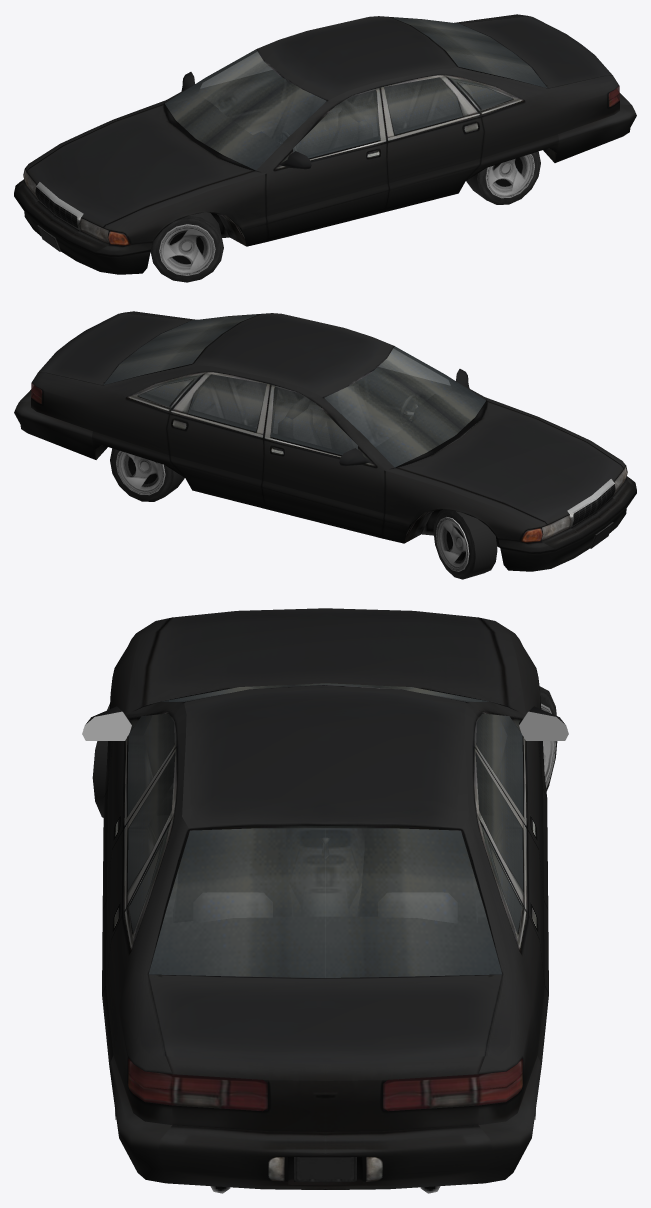
Rendered from chapman_91_tuned_-_retro_styled_model.glb.
The picture shows the model from 3 angles, top to bottom: view 1: azimuth 30°, elevation 25°; view 2: azimuth 150°, elevation 25°; view 3: azimuth 270°, elevation 25°; orthographic projection. The views are drawn at different scales.
Parts seen in each view (by area): view 1: body_Body_Chapman91_0, Glass_GT1_Glass_Clean_0, Interior_gt1_interior_dif_0, Hood_Body_Chapman91_0, Trunk_Body_Chapman91_0, Bumper_Front_Body_Chapman91_0, Wheel_FL_Rim_PRZero_0, Bumper_Rear_Body_Chapman91_0, Wheel_FL_wp_tire_01_0, Wheel_RL_Rim_PRZero_0, Wheel_RL_wp_tire_01_0, Bottom_gt1_Bottom_0 (+1 smaller); view 2: body_Body_Chapman91_0, Glass_GT1_Glass_Clean_0, Interior_gt1_interior_dif_0, Hood_Body_Chapman91_0, Trunk_Body_Chapman91_0, Bumper_Front_Body_Chapman91_0, Bumper_Rear_Body_Chapman91_0, Wheel_FR_wp_tire_01_0, Wheel_RR_Rim_PRZero_0, Wheel_FR_Rim_PRZero_0, Wheel_RR_wp_tire_01_0, Bottom_gt1_Bottom_0 (+1 smaller); view 3: body_Body_Chapman91_0, Glass_GT1_Glass_Clean_0, Interior_gt1_interior_dif_0, Trunk_Body_Chapman91_0, Hood_Body_Chapman91_0, Bumper_Rear_Body_Chapman91_0, Stoplights_gt1_headlights_3_0, Sidemirrors_gt1_Bottom_0, Reverse_glass_gt1_headlights_3_0, Bumper_Rear_gt1_Bottom_0, Wheel_FL_wp_tire_01_0.
Part boxes in pixels (x1,y1,x2,y2): body_Body_Chapman91_0: [23, 14, 619, 246]; Glass_GT1_Glass_Clean_0: [165, 17, 547, 170]; Interior_gt1_interior_dif_0: [165, 17, 546, 170]; Hood_Body_Chapman91_0: [26, 104, 255, 227]; Trunk_Body_Chapman91_0: [460, 16, 612, 88]; Bumper_Front_Body_Chapman91_0: [14, 179, 152, 274]; Wheel_FL_Rim_PRZero_0: [159, 224, 215, 275]; Bumper_Rear_Body_Chapman91_0: [555, 92, 636, 162]; Wheel_FL_wp_tire_01_0: [150, 212, 223, 282]; Wheel_RL_Rim_PRZero_0: [485, 154, 534, 198]; Wheel_RL_wp_tire_01_0: [466, 151, 540, 204]; Bottom_gt1_Bottom_0: [210, 148, 556, 246]; body_Body_Chapman91_0: [31, 311, 627, 543]; Glass_GT1_Glass_Clean_0: [103, 314, 485, 467]; Interior_gt1_interior_dif_0: [104, 314, 485, 467]; Hood_Body_Chapman91_0: [395, 400, 624, 524]; Trunk_Body_Chapman91_0: [38, 313, 190, 385]; Bumper_Front_Body_Chapman91_0: [498, 476, 636, 571]; Bumper_Rear_Body_Chapman91_0: [14, 389, 95, 459]; Wheel_FR_wp_tire_01_0: [433, 509, 497, 579]; Wheel_RR_Rim_PRZero_0: [116, 451, 165, 495]; Wheel_FR_Rim_PRZero_0: [436, 517, 469, 571]; Wheel_RR_wp_tire_01_0: [110, 448, 184, 501]; Bottom_gt1_Bottom_0: [94, 445, 499, 547]; body_Body_Chapman91_0: [85, 617, 565, 1131]; Glass_GT1_Glass_Clean_0: [127, 683, 523, 977]; Interior_gt1_interior_dif_0: [128, 695, 522, 977]; Trunk_Body_Chapman91_0: [148, 974, 502, 1080]; Hood_Body_Chapman91_0: [142, 608, 508, 707]; Bumper_Rear_Body_Chapman91_0: [109, 1055, 541, 1189]; Stoplights_gt1_headlights_3_0: [127, 1058, 523, 1111]; Sidemirrors_gt1_Bottom_0: [82, 711, 568, 740]; Reverse_glass_gt1_headlights_3_0: [172, 1090, 478, 1108]; Bumper_Rear_gt1_Bottom_0: [294, 1157, 356, 1181]; Wheel_FL_wp_tire_01_0: [92, 704, 109, 817].
Size of the model in its own units: 5.5 by 1.36 by 2.09.
Materials: 7 (7 with a texture image).
